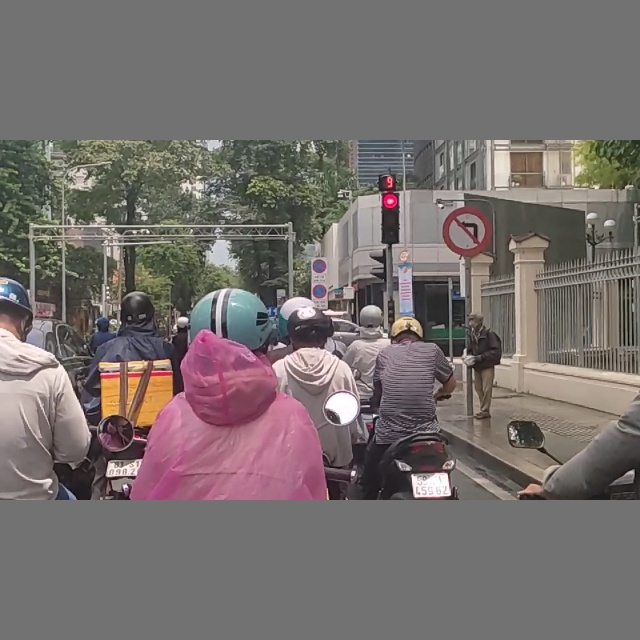P.123a: (441, 204, 493, 258)
P.130: (311, 258, 327, 273)
P.131a: (311, 284, 327, 299)
